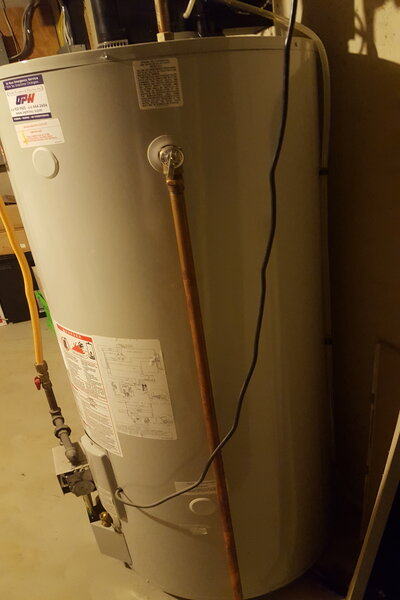valve: (150, 143, 194, 190)
